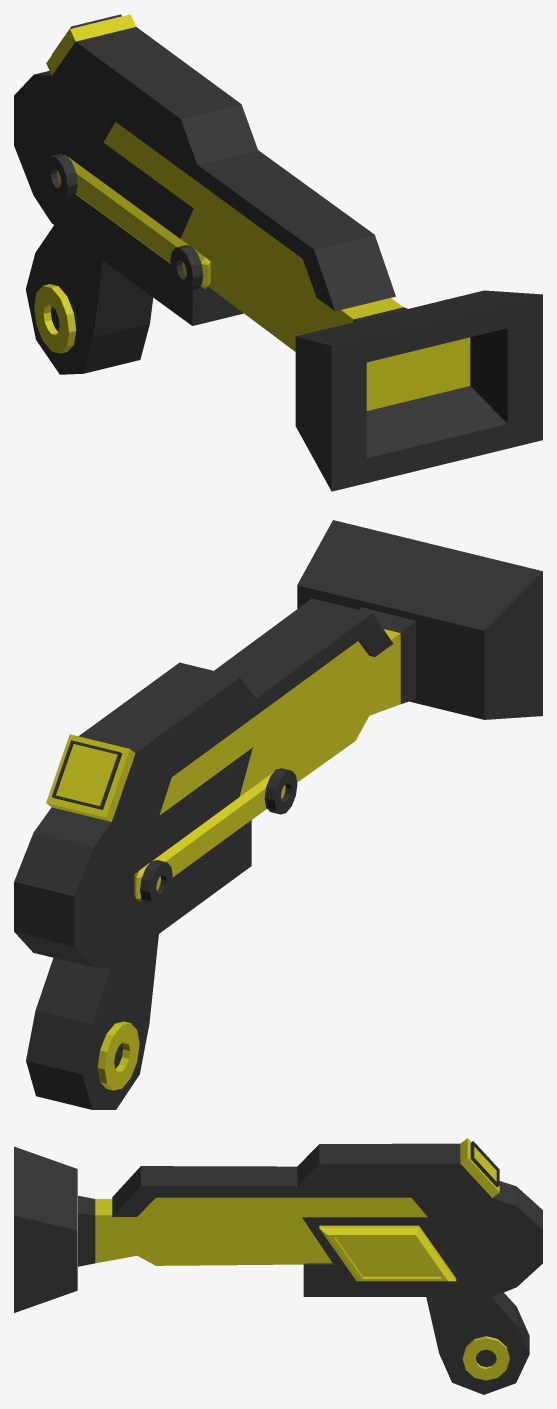
The model's file is gun-2.dae.
3 views of the same model, one above another, from view 1: azimuth 30°, elevation 25°; view 2: azimuth 150°, elevation 25°; view 3: azimuth 270°, elevation 25° (orthographic). The views are drawn at different scales.
Parts seen in each view (by area): view 1: Cube_003; view 2: Cube_003; view 3: Cube_003.
Part boxes in pixels (box(x1,y1,x2,y2)): Cube_003: box(14, 14, 542, 491); Cube_003: box(14, 520, 542, 1109); Cube_003: box(14, 1138, 542, 1394).
Bounding box in the file's own units: 0.2749 × 0.8893 × 0.4412.
